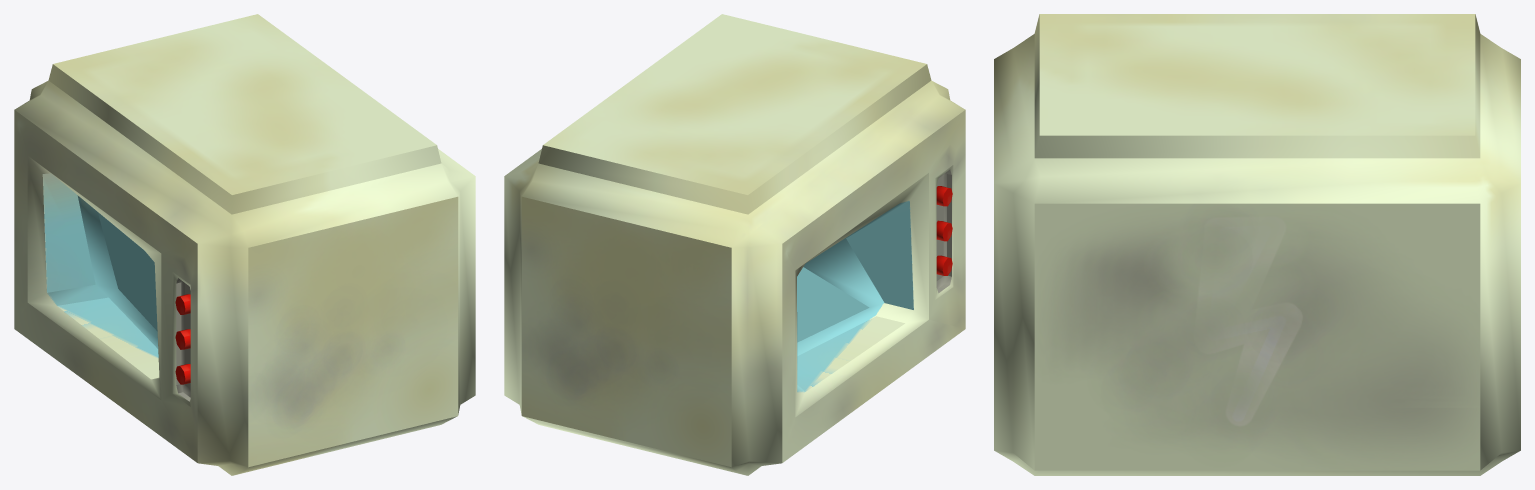
Rendered from ModuloEstabilizador.fbx.
3 views of the same model, side by side, from view 1: azimuth 30°, elevation 25°; view 2: azimuth 150°, elevation 25°; view 3: azimuth 270°, elevation 25° (orthographic). The views are drawn at different scales.
Visible parts, largest first — view 1: Cube; view 2: Cube; view 3: Cube.
Boxes of the visible parts, x1=… form: Cube: x1=14, y1=14, x2=475, y2=475; Cube: x1=504, y1=14, x2=965, y2=475; Cube: x1=994, y1=14, x2=1520, y2=475.
Size of the model in its own units: 132 by 127 by 179.
Materials: 1 (1 with a texture image).
